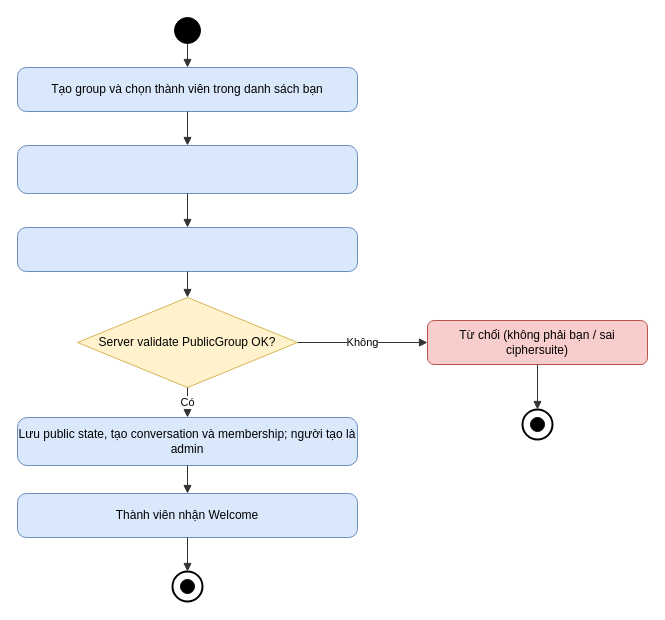
Some shapes in this 665 by 620 pixel diagram are drawn without their labels. The centre of each missing label's shape, as x and y in pixels:
"Gửi GroupInfo / Welcome / Commit ở bước apply" goes at (x=187, y=249).
"OpenMLS tạo group state, claim KeyPackage X-Wing của thành viên" goes at (x=187, y=169).
